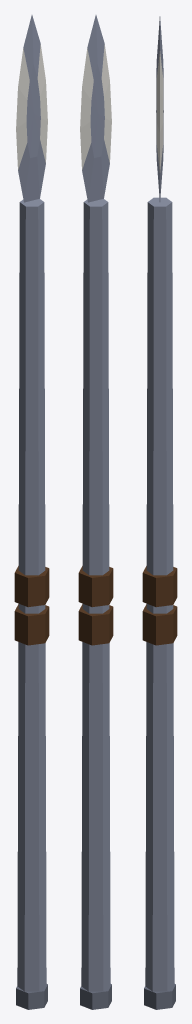
The model's file is wpn_spear_iron_01.fbx.
3 views of the same model, side by side, from view 1: azimuth 30°, elevation 25°; view 2: azimuth 210°, elevation 25°; view 3: azimuth 270°, elevation 25° (orthographic).
Parts seen in each view (by area): view 1: wpn_spear_iron_01; view 2: wpn_spear_iron_01; view 3: wpn_spear_iron_01.
Part boxes in pixels (<box>): wpn_spear_iron_01: <box>14,15,49,1009</box>; wpn_spear_iron_01: <box>78,15,113,1009</box>; wpn_spear_iron_01: <box>142,16,177,1009</box>.
Bounding box in the file's own units: 0.048 × 0.045 × 1.42.
Materials: 1 (1 with a texture image).
